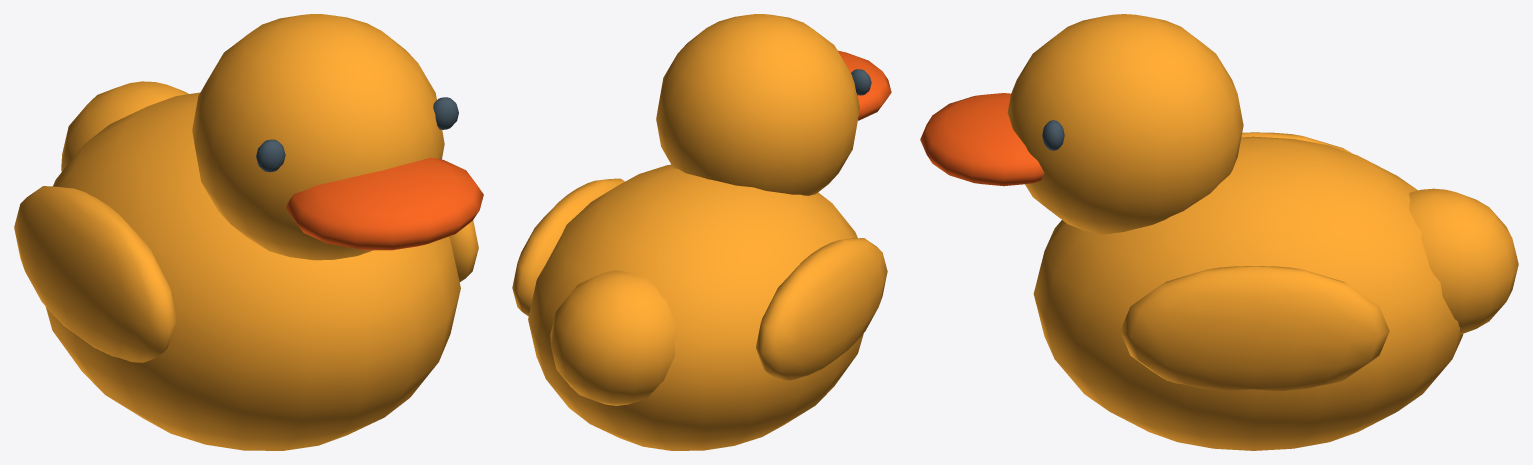
Rendered from toy_duck.fbx.
The picture shows the model from 3 angles, left to right: view 1: azimuth 30°, elevation 25°; view 2: azimuth 150°, elevation 25°; view 3: azimuth 270°, elevation 25°; orthographic projection. The views are drawn at different scales.
Parts seen in each view (by area): view 1: Duck_Body, Duck_Head, Duck_Wing, Duck_Beak, Duck_Tail, Duck_Wing.001, Duck_Eye, Duck_Eye.001; view 2: Duck_Body, Duck_Head, Duck_Tail, Duck_Wing, Duck_Wing.001, Duck_Beak, Duck_Eye; view 3: Duck_Body, Duck_Head, Duck_Wing.001, Duck_Tail, Duck_Beak.
Boxes of the visible parts, <box> form: Duck_Body: <box>45,92,460,450</box>; Duck_Head: <box>192,14,444,260</box>; Duck_Wing: <box>14,186,176,362</box>; Duck_Beak: <box>286,157,483,250</box>; Duck_Tail: <box>61,81,188,171</box>; Duck_Wing.001: <box>449,220,478,282</box>; Duck_Eye: <box>256,139,285,172</box>; Duck_Eye.001: <box>433,97,458,129</box>; Duck_Body: <box>528,164,863,450</box>; Duck_Head: <box>656,14,859,195</box>; Duck_Tail: <box>550,270,676,405</box>; Duck_Wing: <box>756,238,887,380</box>; Duck_Wing.001: <box>512,178,624,316</box>; Duck_Beak: <box>838,50,891,120</box>; Duck_Eye: <box>851,69,871,95</box>; Duck_Body: <box>1033,136,1463,450</box>; Duck_Head: <box>1007,14,1243,234</box>; Duck_Wing.001: <box>1120,266,1389,391</box>; Duck_Tail: <box>1409,188,1518,334</box>; Duck_Beak: <box>920,93,1044,186</box>.
Bounding box in the file's own units: 0.2727 × 0.317 × 0.422.
